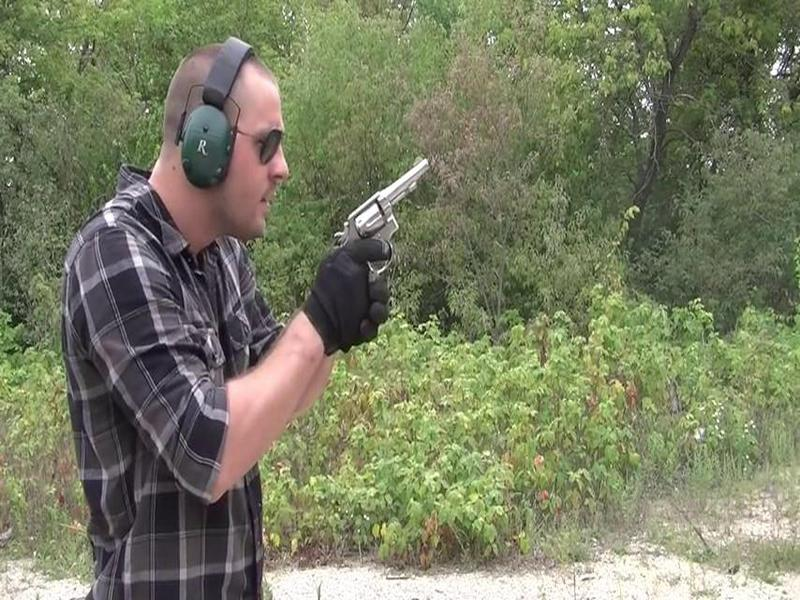Revolver: (337, 154, 447, 275)
